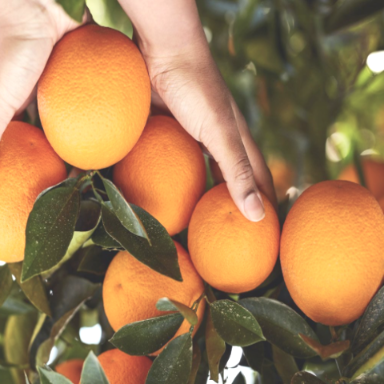orange: (26, 28, 159, 174), (263, 178, 383, 336), (183, 177, 285, 308)
